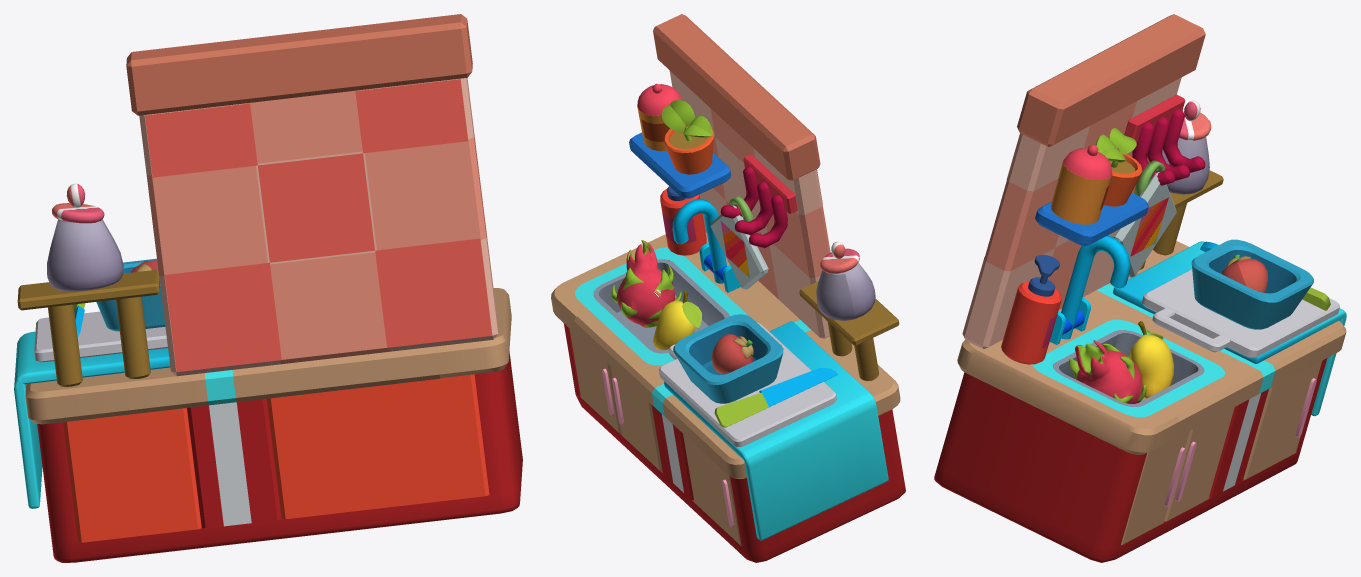
3 renders of one model, left to right at view 1: azimuth 30°, elevation 25°; view 2: azimuth 150°, elevation 25°; view 3: azimuth 270°, elevation 25°, orthographic. The views are drawn at different scales.
Parts seen in each view (by area): view 1: Board_Kitchenware_0, Board_Kitchenware_23, Board_Kitchenware_1, Board_Kitchenware_28, Board_Kitchenware_39, Board_Kitchenware_26, Board_Kitchenware_21, Board_Kitchenware_3, Board_Kitchenware_4, Board_Kitchenware_22, Board_Kitchenware_31, Board_Kitchenware_25 (+5 smaller); view 2: Board_Kitchenware_29, Board_Kitchenware_1, Board_Kitchenware_0, Board_Kitchenware_39, Board_Kitchenware_5, Board_Kitchenware_2, Board_Kitchenware_11, Board_Kitchenware_25, Board_Kitchenware_4, Board_Kitchenware_21, Board_Kitchenware_16, Board_Kitchenware_3 (+22 smaller); view 3: Board_Kitchenware_22, Board_Kitchenware_0, Board_Kitchenware_1, Board_Kitchenware_32, Board_Kitchenware_39, Board_Kitchenware_5, Board_Kitchenware_2, Board_Kitchenware_21, Board_Kitchenware_27, Board_Kitchenware_7, Board_Kitchenware_9, Board_Kitchenware_24 (+21 smaller).
Boxes of the visible parts, bbox=[...] form: Board_Kitchenware_0: bbox=[139, 78, 498, 376]; Board_Kitchenware_23: bbox=[267, 374, 489, 519]; Board_Kitchenware_1: bbox=[126, 14, 472, 115]; Board_Kitchenware_28: bbox=[63, 408, 201, 542]; Board_Kitchenware_39: bbox=[25, 360, 317, 424]; Board_Kitchenware_26: bbox=[187, 398, 281, 528]; Board_Kitchenware_21: bbox=[52, 446, 522, 562]; Board_Kitchenware_3: bbox=[17, 269, 159, 386]; Board_Kitchenware_4: bbox=[47, 183, 123, 291]; Board_Kitchenware_22: bbox=[474, 351, 521, 495]; Board_Kitchenware_31: bbox=[313, 346, 440, 392]; Board_Kitchenware_25: bbox=[37, 422, 78, 544]; Board_Kitchenware_29: bbox=[744, 399, 888, 540]; Board_Kitchenware_1: bbox=[653, 14, 820, 180]; Board_Kitchenware_0: bbox=[669, 71, 830, 338]; Board_Kitchenware_39: bbox=[621, 290, 900, 478]; Board_Kitchenware_5: bbox=[673, 314, 783, 403]; Board_Kitchenware_2: bbox=[659, 322, 836, 447]; Board_Kitchenware_11: bbox=[664, 321, 873, 459]; Board_Kitchenware_25: bbox=[730, 409, 904, 552]; Board_Kitchenware_4: bbox=[816, 241, 875, 320]; Board_Kitchenware_21: bbox=[574, 387, 905, 562]; Board_Kitchenware_16: bbox=[611, 240, 681, 327]; Board_Kitchenware_3: bbox=[799, 281, 899, 381]; Board_Kitchenware_22: bbox=[937, 372, 1146, 548]; Board_Kitchenware_0: bbox=[962, 77, 1181, 349]; Board_Kitchenware_1: bbox=[1017, 14, 1205, 146]; Board_Kitchenware_32: bbox=[957, 340, 1178, 454]; Board_Kitchenware_39: bbox=[1082, 241, 1346, 411]; Board_Kitchenware_5: bbox=[1191, 239, 1313, 329]; Board_Kitchenware_2: bbox=[1142, 269, 1339, 358]; Board_Kitchenware_21: bbox=[934, 450, 1300, 562]; Board_Kitchenware_27: bbox=[1243, 361, 1321, 479]; Board_Kitchenware_7: bbox=[1001, 254, 1061, 364]; Board_Kitchenware_9: bbox=[1051, 144, 1112, 224]; Board_Kitchenware_24: bbox=[1121, 431, 1189, 544].
Size of the model in its own units: 16.05 by 17.78 by 13.94.
